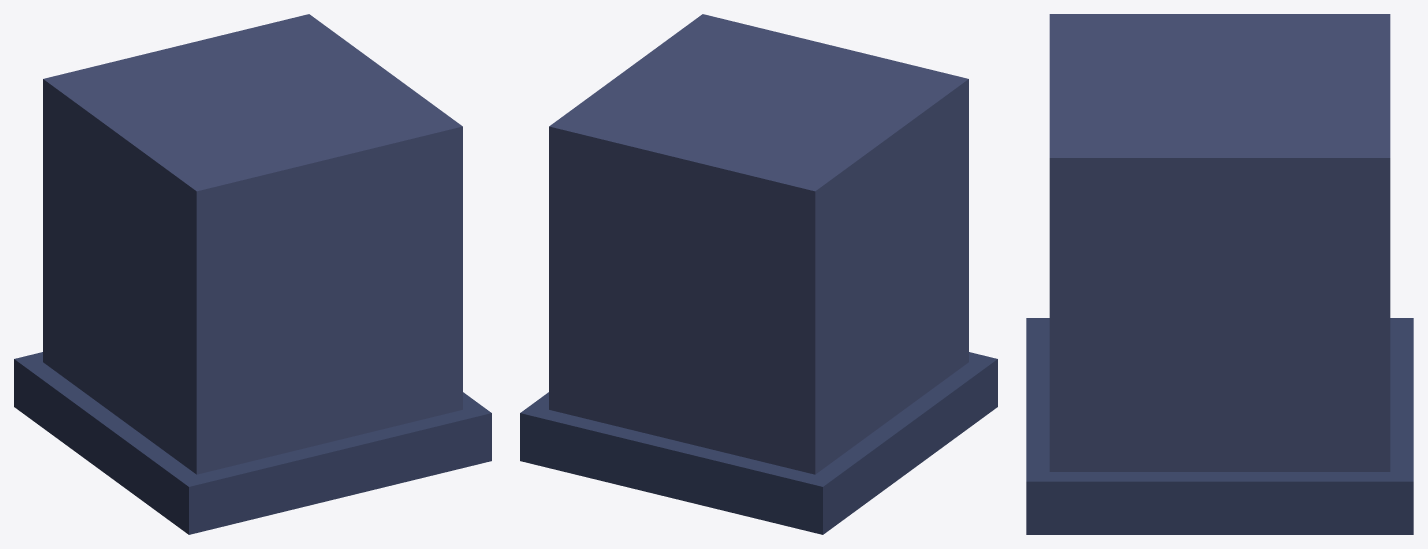
Rendered from ninja_manga_sup.glb.
The picture shows the model from 3 angles, left to right: view 1: azimuth 30°, elevation 25°; view 2: azimuth 150°, elevation 25°; view 3: azimuth 270°, elevation 25°; orthographic projection. The views are drawn at different scales.
Visible parts, largest first — view 1: ninja_manga_sup; view 2: ninja_manga_sup; view 3: ninja_manga_sup.
Boxes of the visible parts, x1,y1,x2,y2 form: ninja_manga_sup: (14,14,491,534); ninja_manga_sup: (520,14,997,534); ninja_manga_sup: (1026,14,1413,534).
Size of the model in its own units: 0.33 by 0.345 by 0.33.
